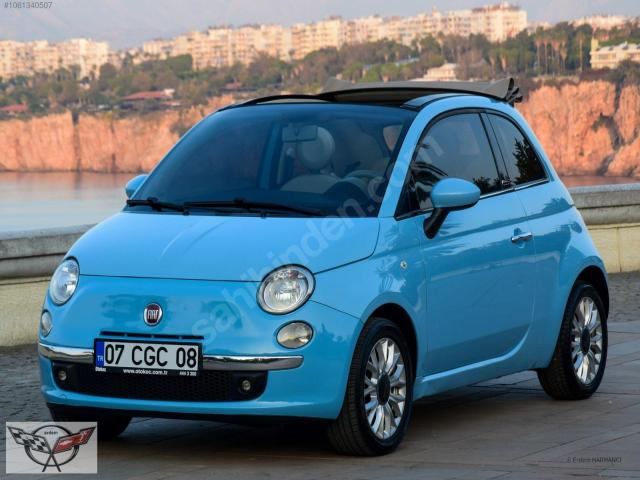plaka: (95, 340, 201, 376)
